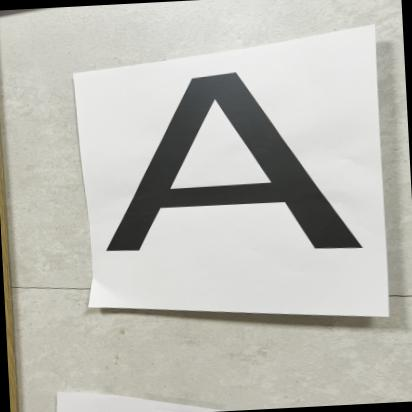seat: (99, 59, 354, 277)
